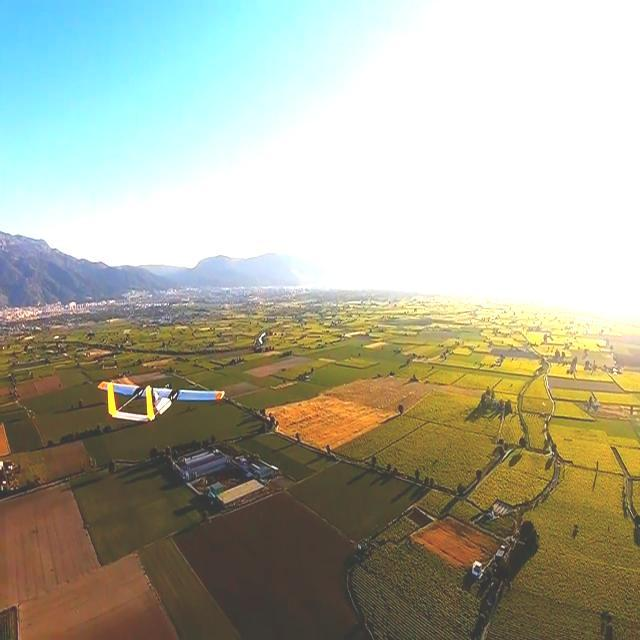iha: (96, 376, 224, 429)
